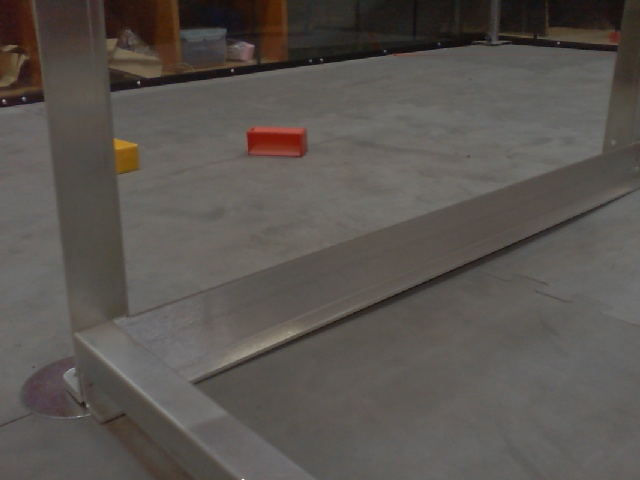RedSample: (241, 124, 311, 159)
YellowSample: (112, 133, 142, 176)
